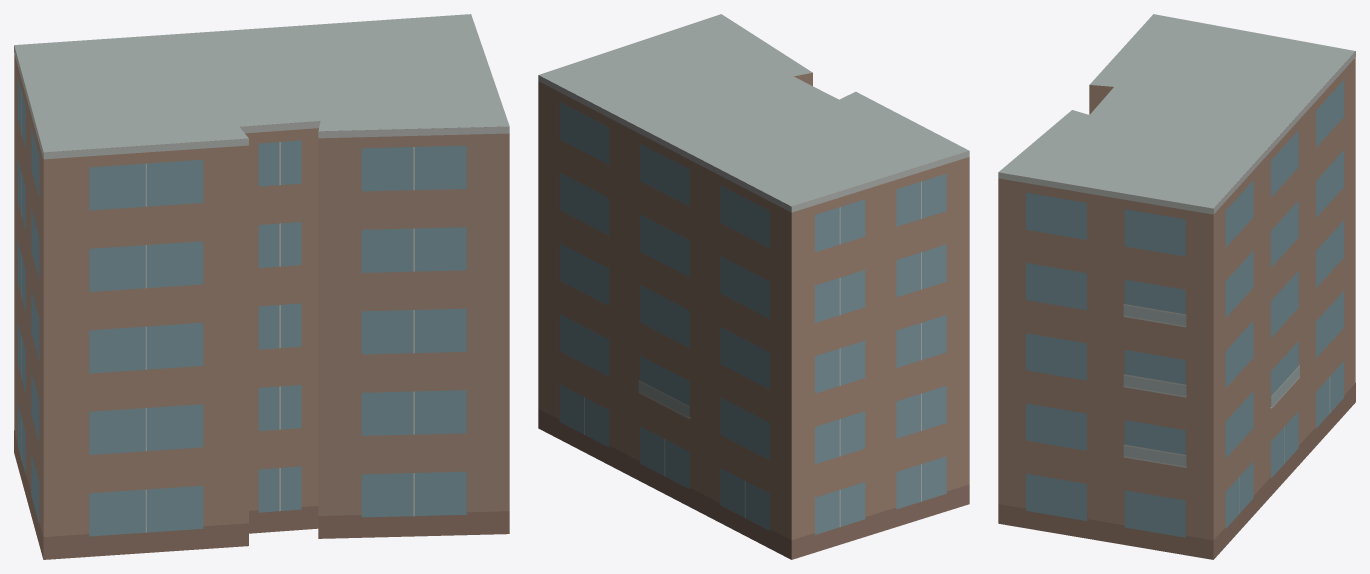
Rendered from survey-upis-33016435.glb.
3 views of the same model, side by side, from view 1: azimuth 30°, elevation 25°; view 2: azimuth 150°, elevation 25°; view 3: azimuth 270°, elevation 25° (orthographic). The views are drawn at different scales.
Parts seen in each view (by area): view 1: survey-upis-33016435.tmp; view 2: survey-upis-33016435.tmp; view 3: survey-upis-33016435.tmp.
Part boxes in pixels (x1,y1,x2,y2): survey-upis-33016435.tmp: (14,14,509,559); survey-upis-33016435.tmp: (538,14,969,559); survey-upis-33016435.tmp: (998,14,1355,559).
Size of the model in its own units: 16.82 by 14.15 by 13.06.
